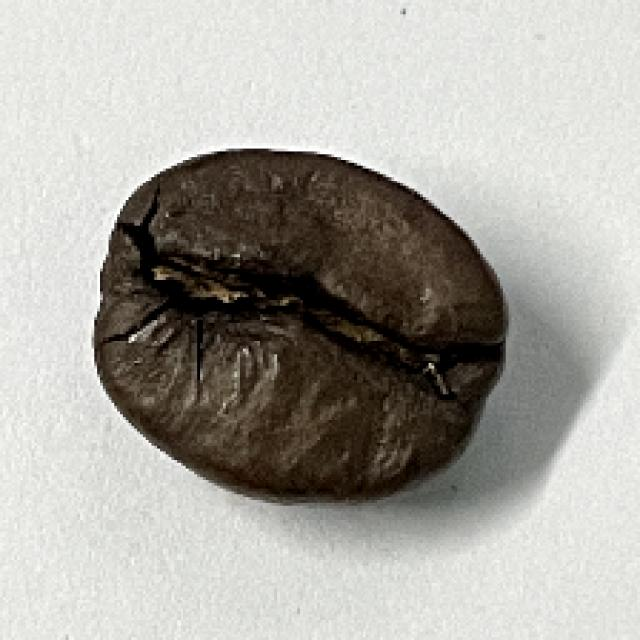bean: (88, 147, 513, 508)
